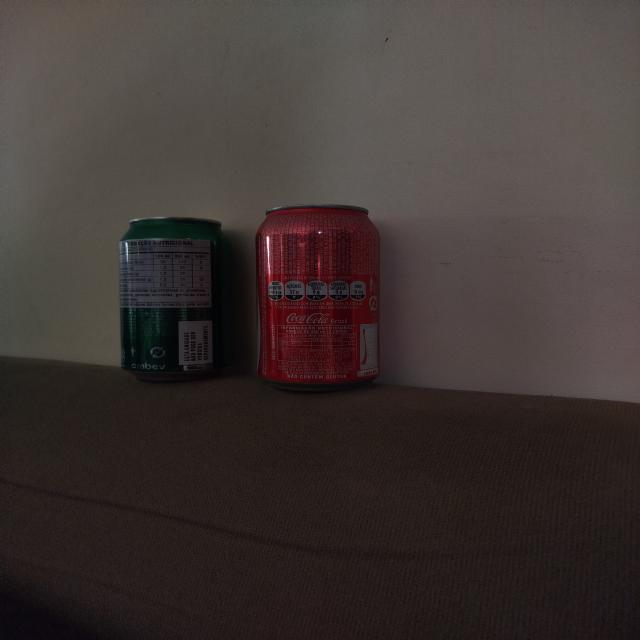Coca Cola: (256, 205, 381, 389)
Guarana: (118, 217, 229, 382)
